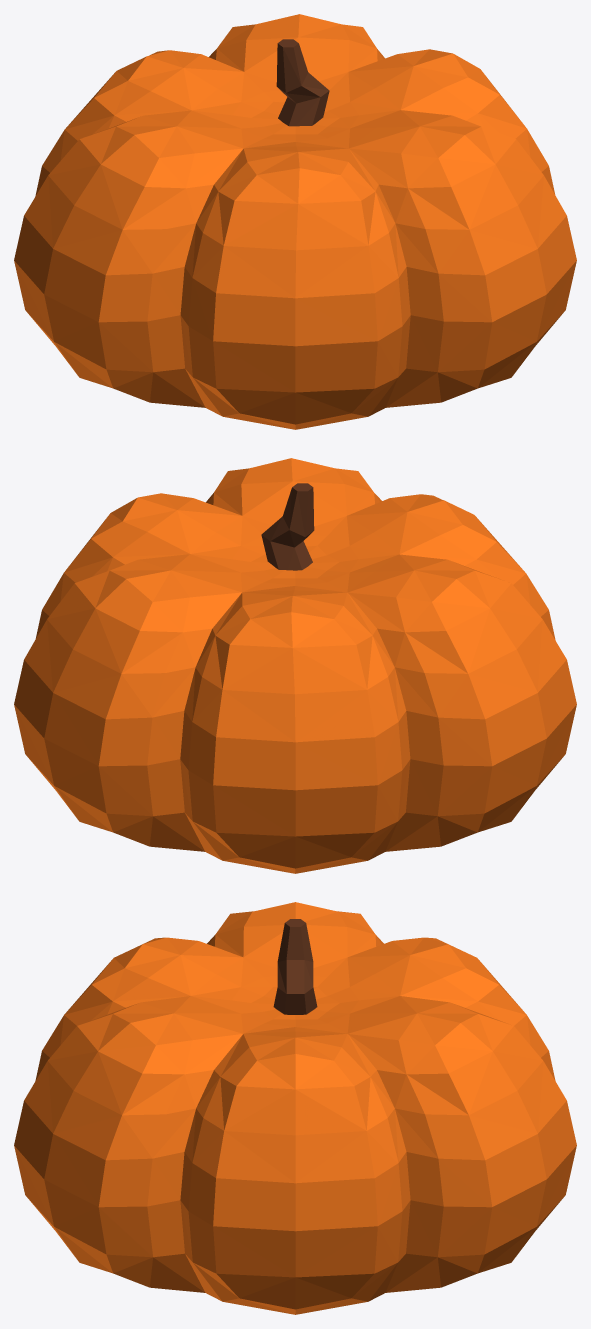
Rendered from Pumpkin.obj.
The picture shows the model from 3 angles, top to bottom: view 1: azimuth 30°, elevation 25°; view 2: azimuth 150°, elevation 25°; view 3: azimuth 270°, elevation 25°; orthographic projection.
Parts seen in each view (by area): view 1: Pumpkin_Orange, Pumpkin_Brown; view 2: Pumpkin_Orange, Pumpkin_Brown; view 3: Pumpkin_Orange, Pumpkin_Brown.
Boxes of the visible parts, box(x1,y1,x2,y2) form: Pumpkin_Orange: box(14, 14, 576, 429); Pumpkin_Brown: box(276, 39, 329, 126); Pumpkin_Orange: box(14, 458, 576, 873); Pumpkin_Brown: box(261, 483, 314, 570); Pumpkin_Orange: box(14, 902, 576, 1314); Pumpkin_Brown: box(273, 919, 317, 1014).
Size of the model in its own units: 1.5 by 0.9309 by 1.51.
